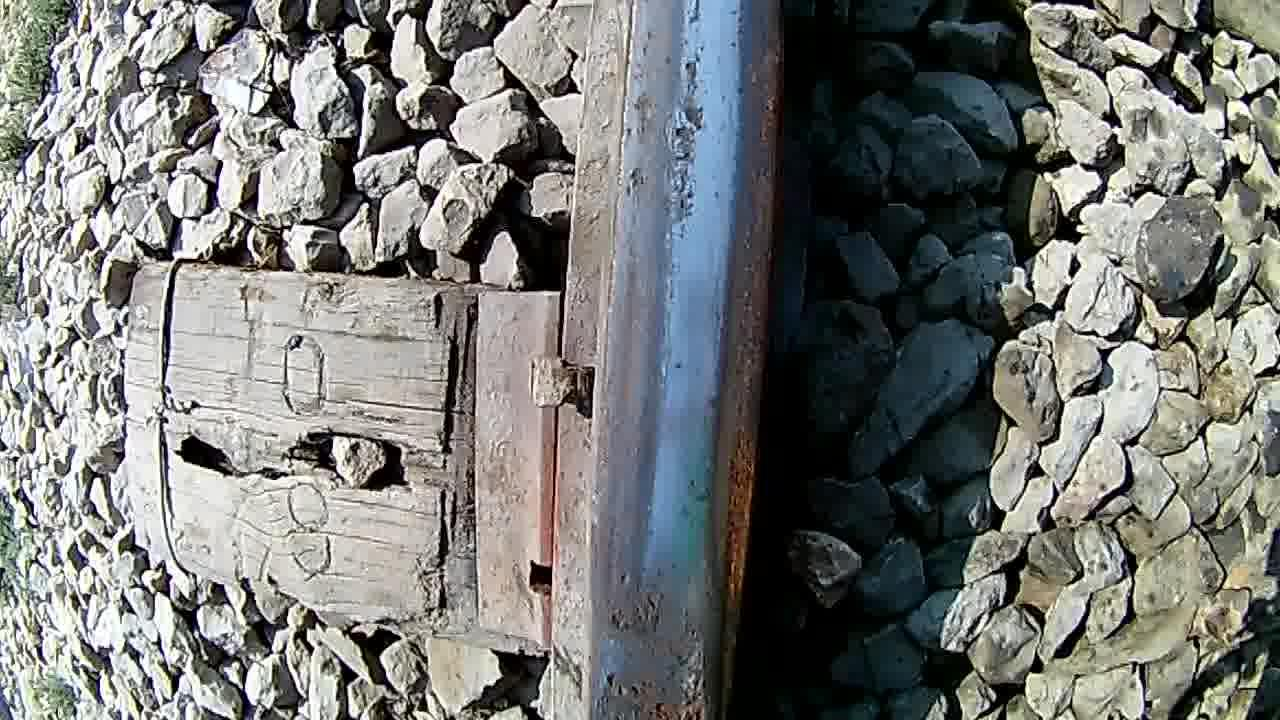crack: (594, 0, 774, 720)
